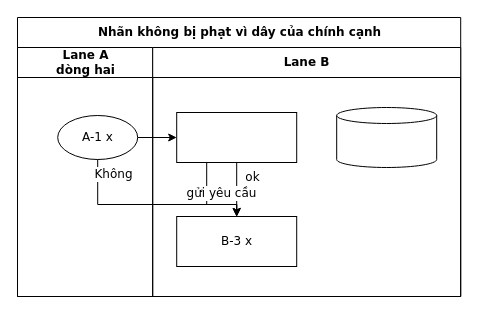
Image size: 479x314. Some labels were removed from this diagram. The shapes that lost their labels are listed below. From the top down, each one's centre as x and y in pixels, then its label:
At (236,137): "B-2 x".
At (386,137): "d0".
